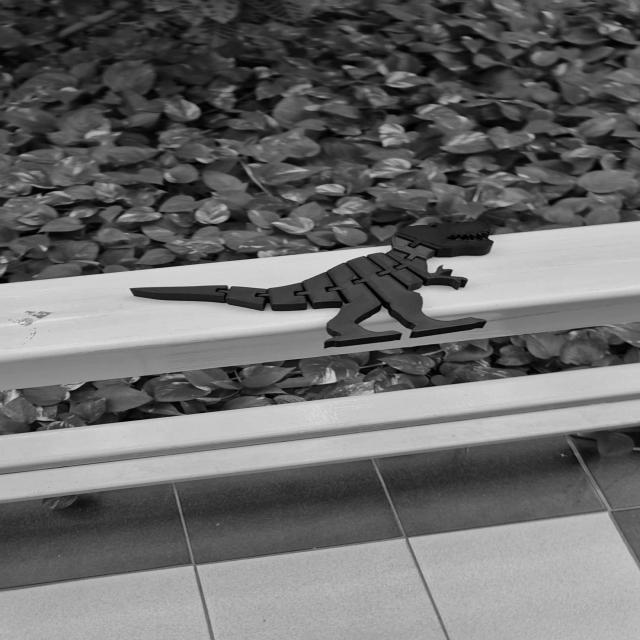dino: (128, 221, 496, 350)
